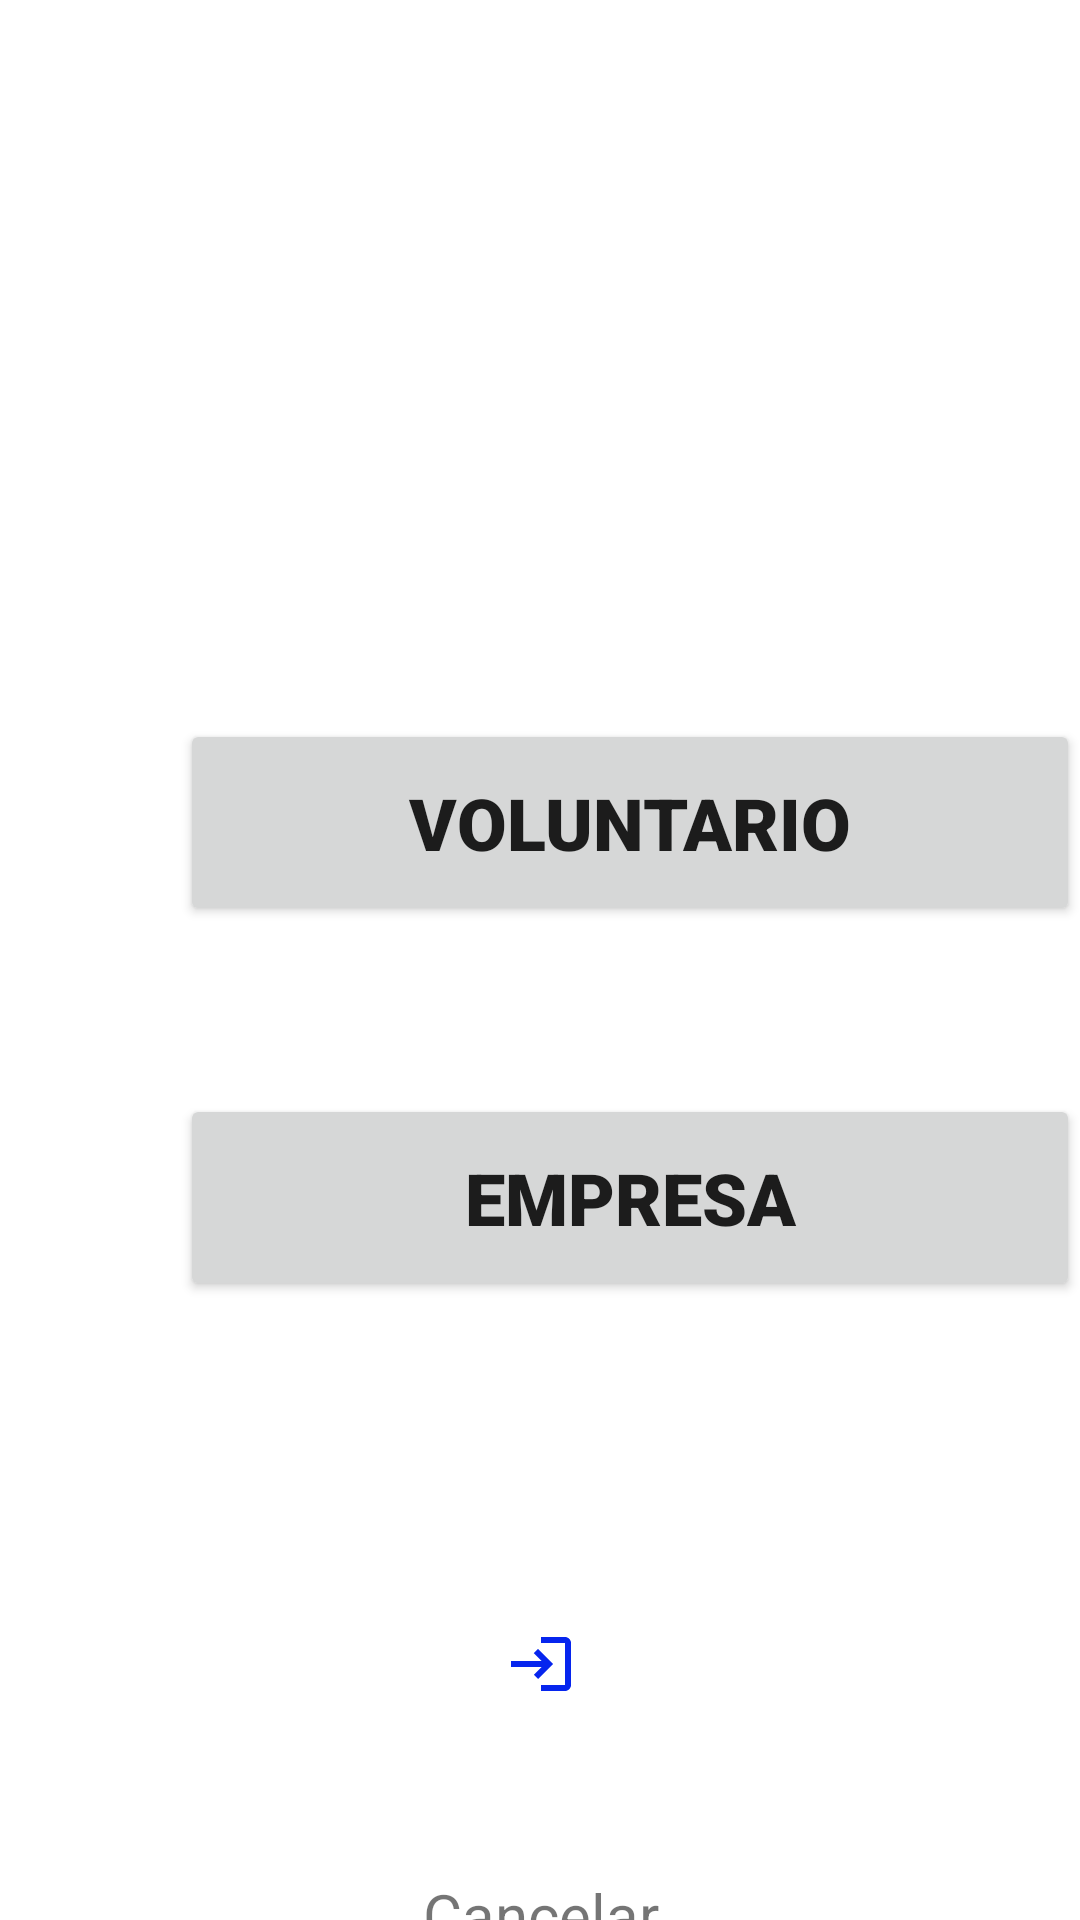

Locate icon controls on the screen. Image size 1080×1920, boxes as {"x1": x1, "y1": y1, "x2": x2, "y2": y2}.
login: {"x1": 511, "y1": 1637, "x2": 571, "y2": 1691}
